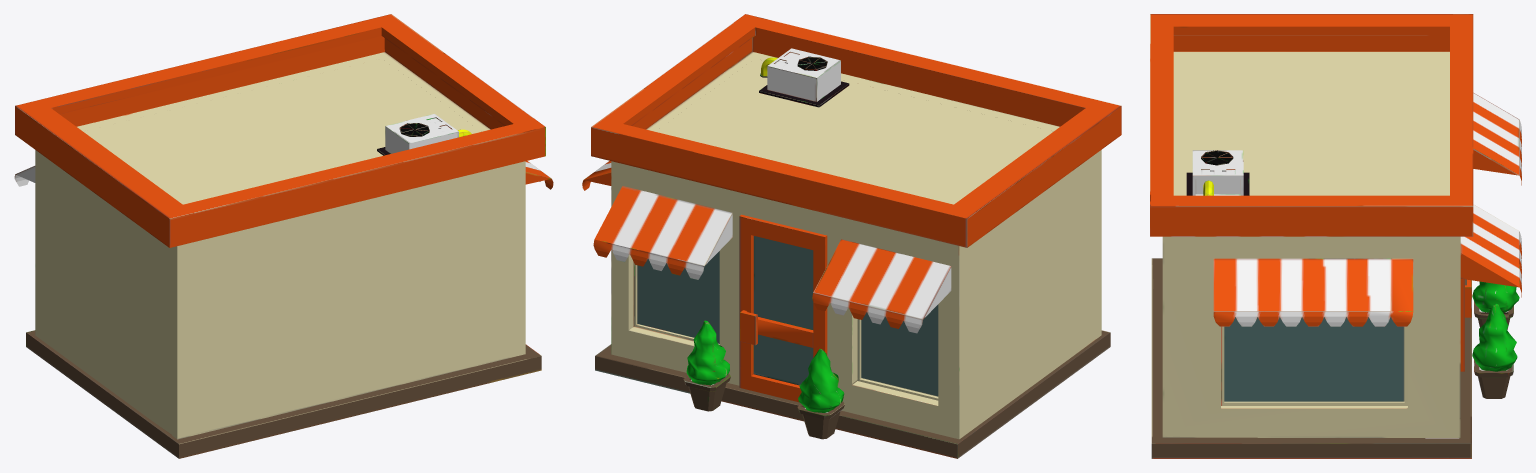
File: tienda_final.fbx
3 views of the same model, side by side, from view 1: azimuth 30°, elevation 25°; view 2: azimuth 150°, elevation 25°; view 3: azimuth 270°, elevation 25° (orthographic). The views are drawn at different scales.
Visible parts, largest first — view 1: struttura_TEXTURE_0.002; view 2: struttura_TEXTURE_0.002; view 3: struttura_TEXTURE_0.002.
Part boxes in pixels (bbox=[...]): struttura_TEXTURE_0.002: bbox=[14, 14, 553, 458]; struttura_TEXTURE_0.002: bbox=[582, 14, 1121, 458]; struttura_TEXTURE_0.002: bbox=[1150, 14, 1521, 458].
Bounding box in the file's own units: 2840 × 1591 × 2107.
